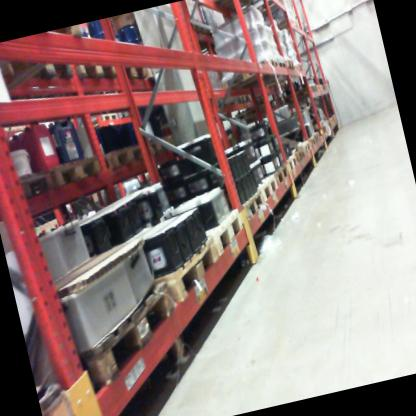pallet: (61, 277, 187, 395), (133, 237, 228, 319), (0, 42, 87, 108), (42, 144, 107, 196), (196, 208, 252, 264), (217, 56, 283, 95), (111, 39, 161, 90), (1, 163, 57, 208), (74, 38, 124, 84), (99, 137, 155, 176), (36, 375, 77, 416), (230, 191, 270, 231), (150, 125, 194, 159), (254, 170, 283, 210), (213, 0, 275, 18), (87, 105, 121, 134), (257, 0, 294, 21), (271, 163, 293, 195), (116, 102, 140, 127), (282, 154, 301, 179), (272, 17, 297, 34), (276, 57, 292, 77), (292, 146, 307, 167), (308, 119, 327, 133), (300, 140, 314, 156), (285, 57, 298, 72), (313, 128, 324, 143), (308, 135, 318, 150), (293, 17, 303, 32)
